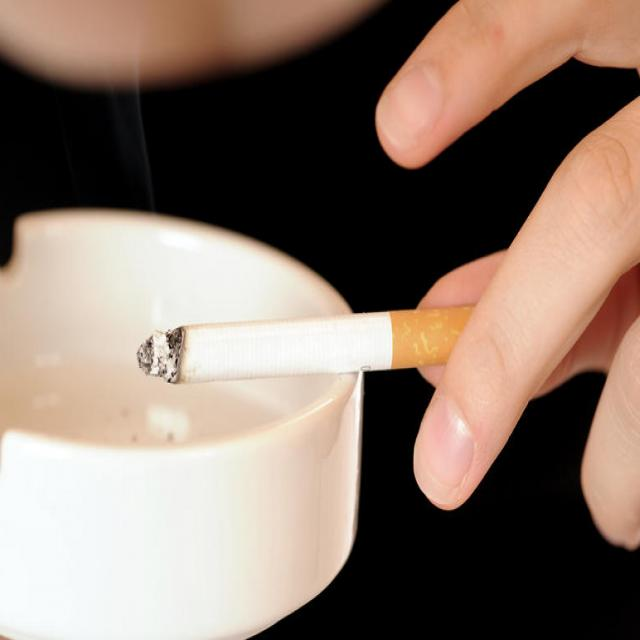smoking: (137, 302, 530, 389)
